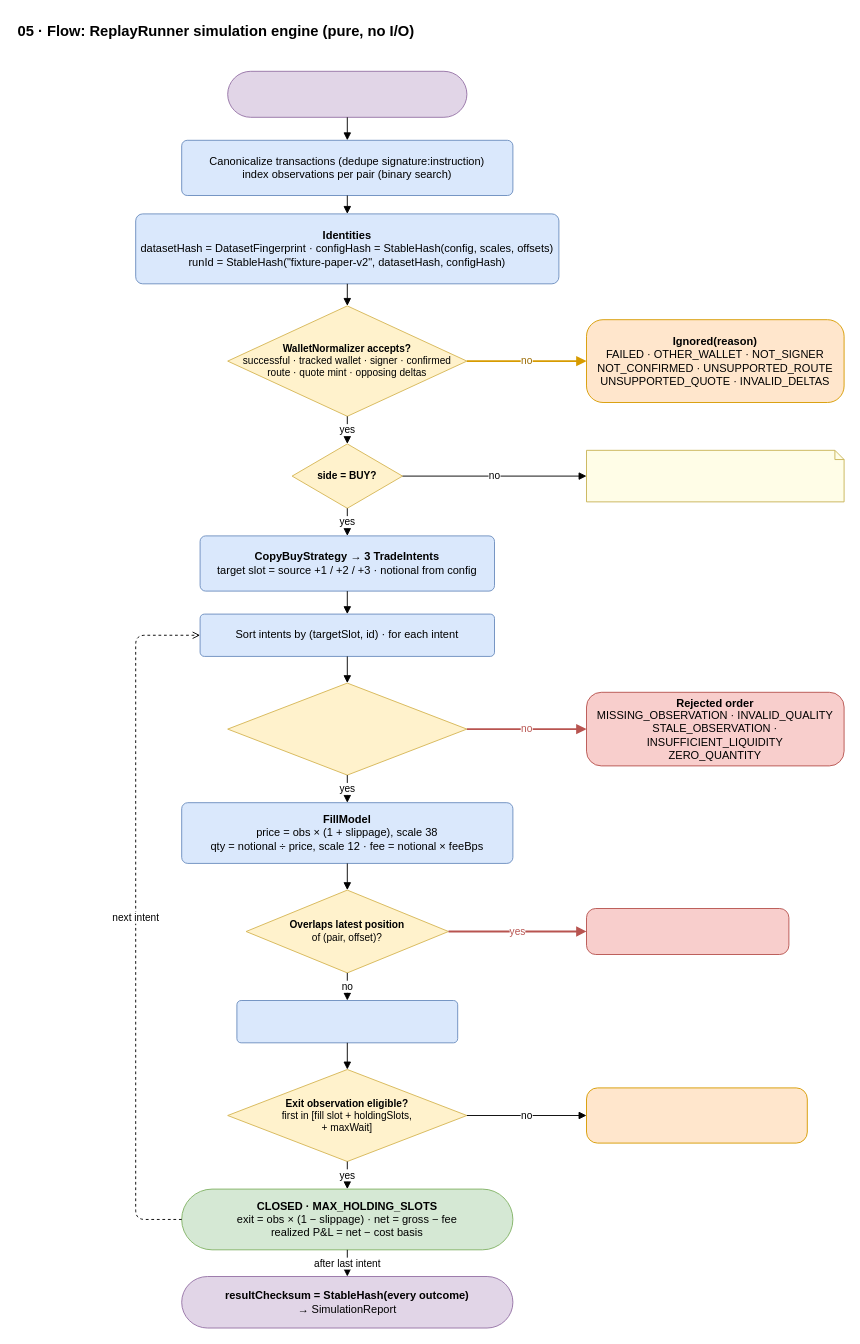
This 860x1344 diagram has some shape labels left out. The centre of each missing label's shape, as x and y in pixels:
Accepted SELL: stored, no intent sells never force an exit: the point at 715,475
Entry observation eligible? first in [target, target + maxWait]: the point at 347,728
PositionService.open → OPEN: the point at 347,1021
Rejected: ALREADY_OPEN: the point at 687,931
ReplayRunner.run(dataset, config): the point at 347,93
Stays OPEN exitUnavailable = reason: the point at 696,1115
